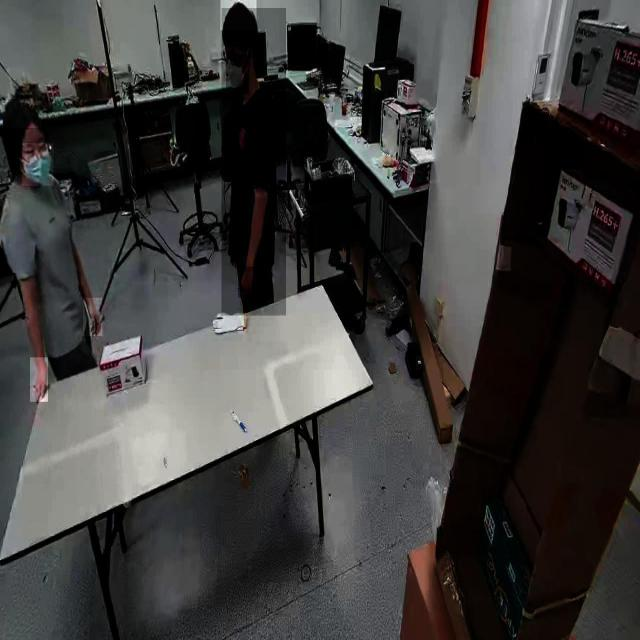face_mask: (22, 143, 54, 186), (226, 54, 250, 95)
hand_noglove: (30, 357, 48, 403), (83, 298, 103, 337), (238, 266, 254, 298)
head_nohelmet: (0, 100, 42, 129), (221, 0, 257, 31)
person: (1, 101, 102, 391), (222, 8, 286, 316)
